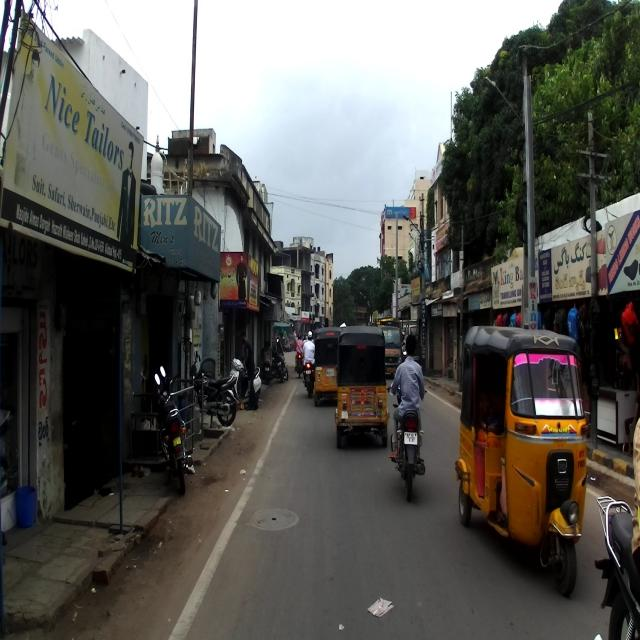autorickshaw: (453, 325, 591, 598), (333, 326, 389, 451)
motorcycle: (595, 495, 640, 639), (152, 365, 193, 496), (386, 384, 428, 504), (191, 348, 240, 431)
